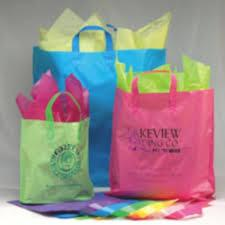Plastic bag: (26, 15, 216, 207), (9, 67, 101, 217)
